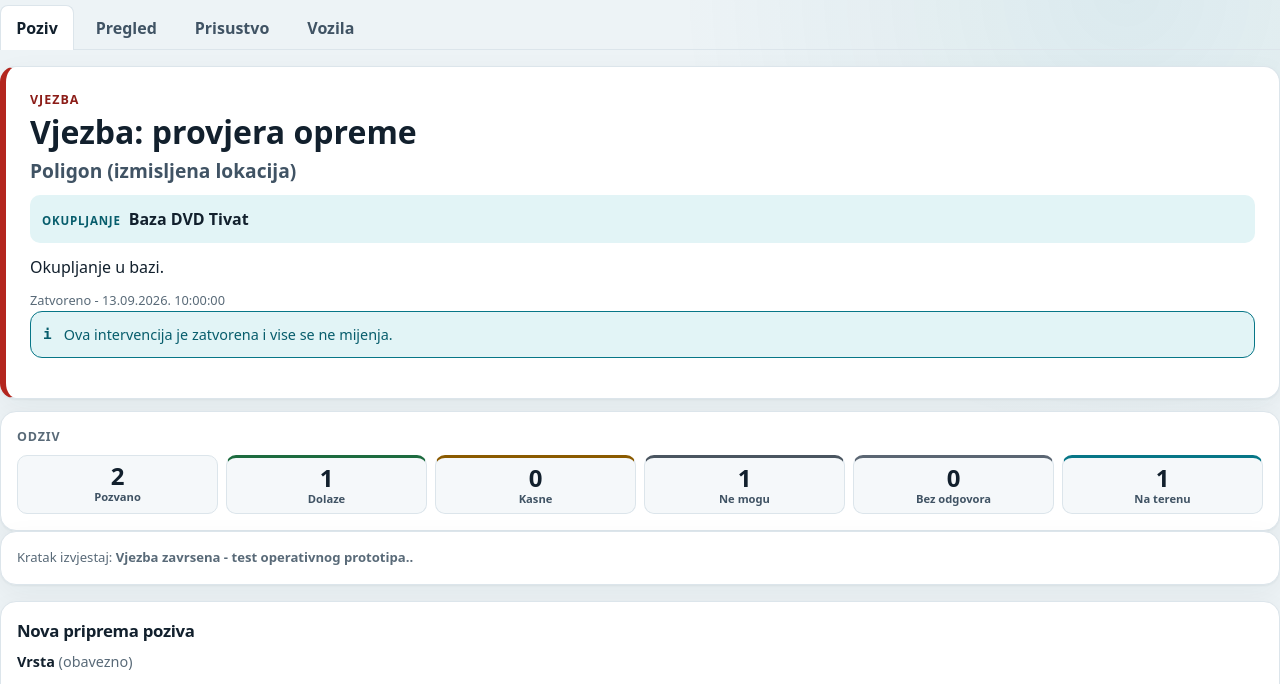
Test: every recorded time and duration reaches the screen › the commander console › sums two confirmed intervals exactly, then formats once
This screenshot has width=1280, height=684.
Click the tab "Pregled".
click(126, 27)  # box x1=80 y1=5 x2=173 y2=49
(page scrolled)
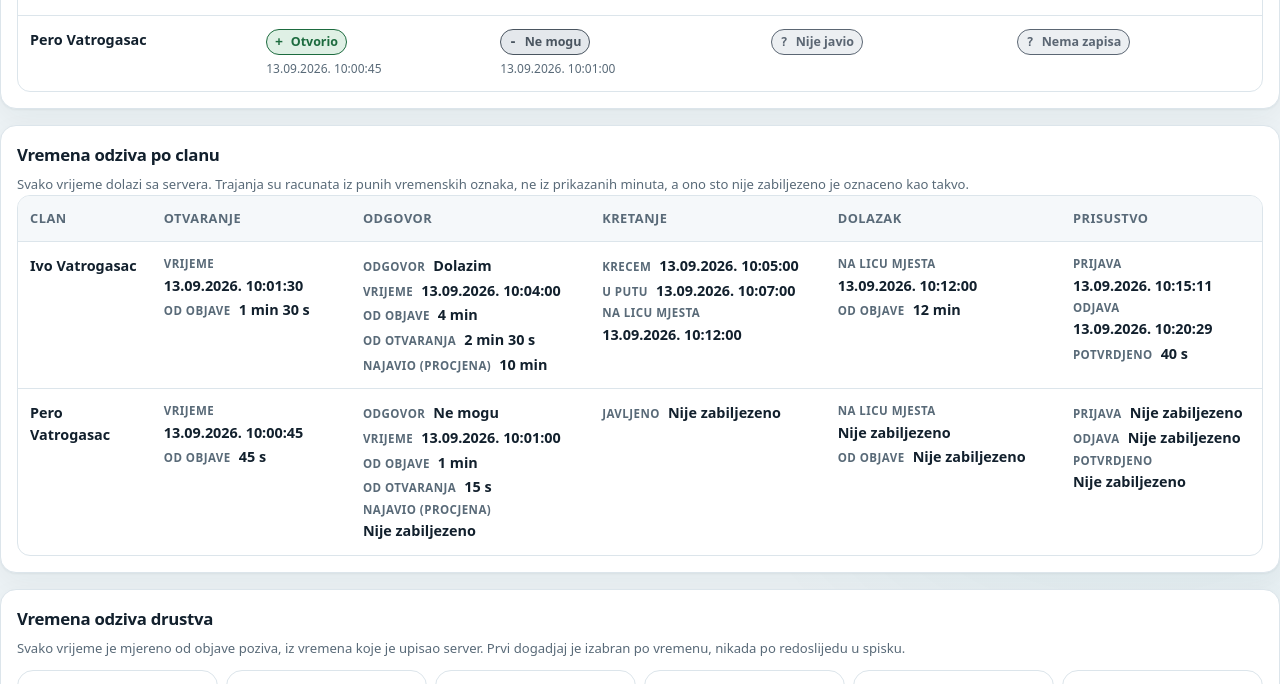
Now the text "40 s" is shown, box x1=1161 y1=344 x2=1188 y2=363
